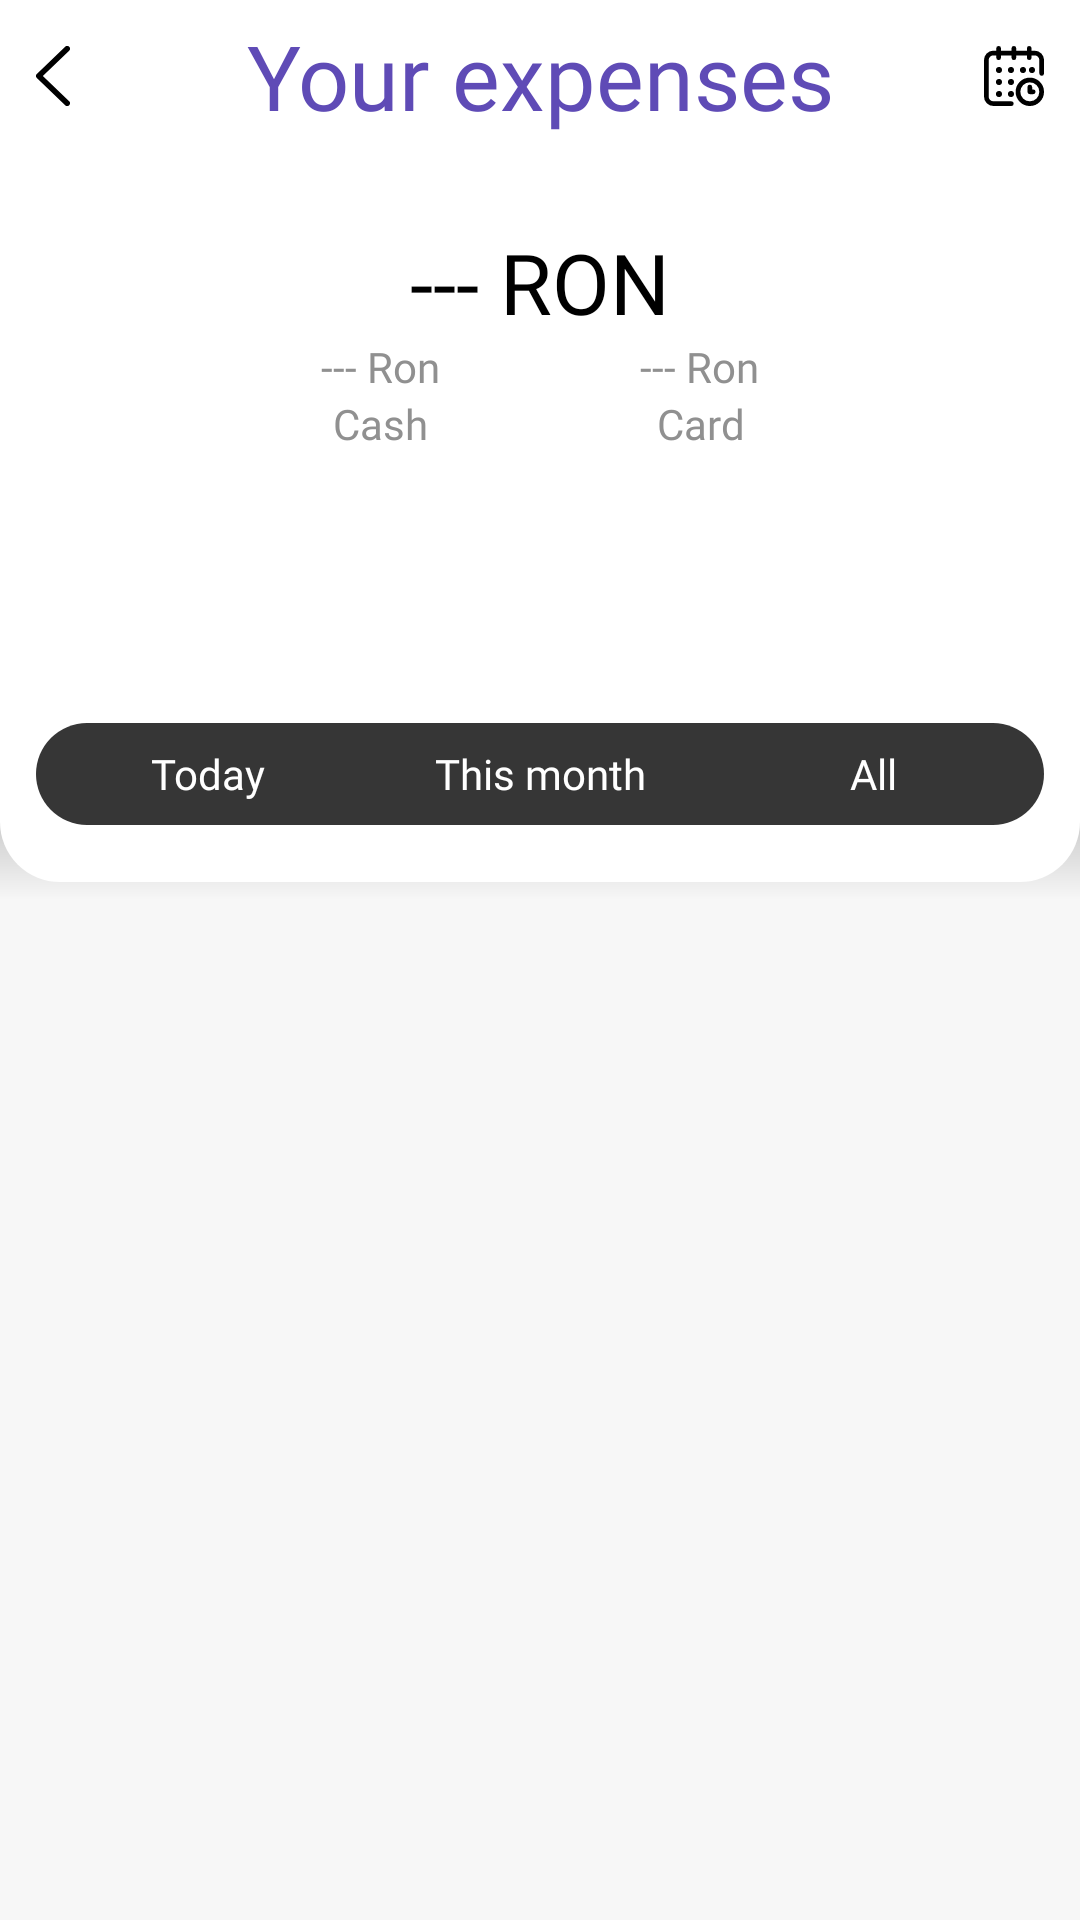

Icons on this 1080px×1920px Android screen, each with its box as {"left": x1, "top": y1, "right": x2, "bottom": y2}:
back arrow: {"left": 36, "top": 46, "right": 70, "bottom": 106}
calendar: {"left": 984, "top": 46, "right": 1044, "bottom": 106}
